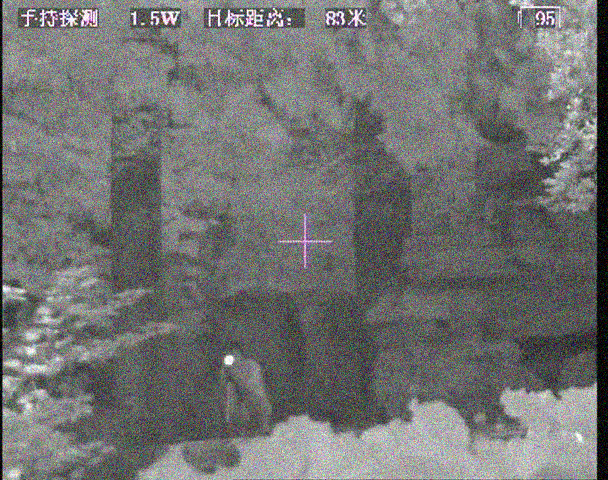my: (224, 354, 236, 366)
